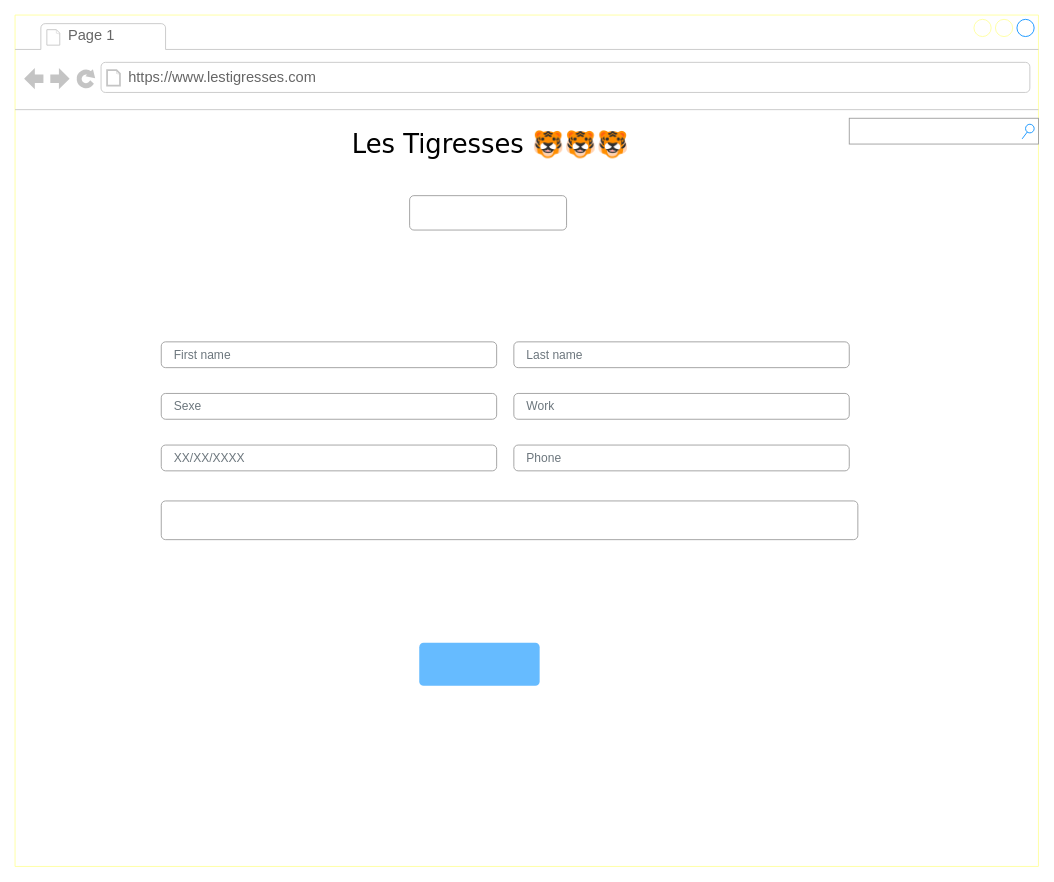
Image size: 1054x882. Some labels were removed from this diagram. Each missing label, with the centre of its shape:
"CREATE" belongs at [479,663].
"Email" belongs at [509,520].
"Search" belongs at [943,130].
"Sign UP" belongs at [488,212].
